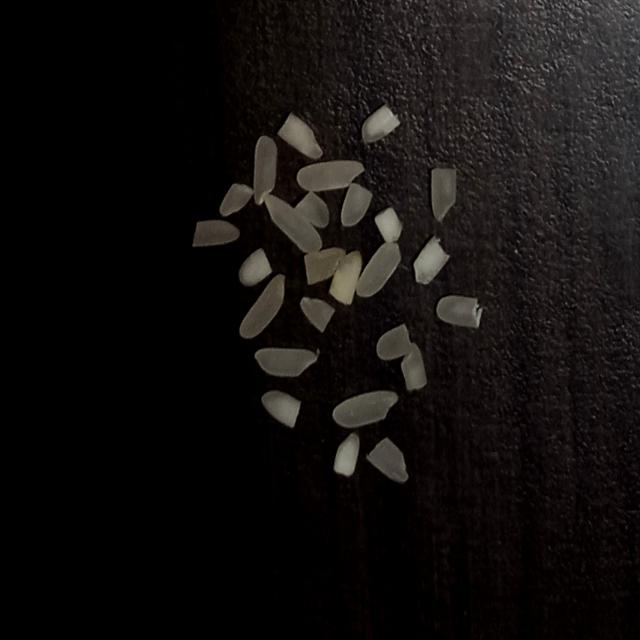Broken: (278, 112, 323, 159), (367, 437, 409, 483), (413, 236, 450, 286), (329, 250, 362, 306), (262, 390, 301, 429), (304, 248, 346, 284), (341, 183, 373, 227), (436, 296, 479, 328), (294, 190, 330, 228), (362, 106, 400, 142), (401, 342, 428, 392), (239, 248, 273, 287), (193, 220, 240, 248), (432, 168, 456, 222), (300, 296, 335, 333), (377, 324, 412, 360), (334, 432, 359, 477), (220, 183, 253, 216), (375, 207, 403, 244)
Full: (264, 194, 322, 253), (240, 274, 286, 339), (333, 390, 399, 428), (356, 243, 402, 297), (297, 160, 364, 192), (255, 348, 317, 377), (254, 135, 277, 206)
